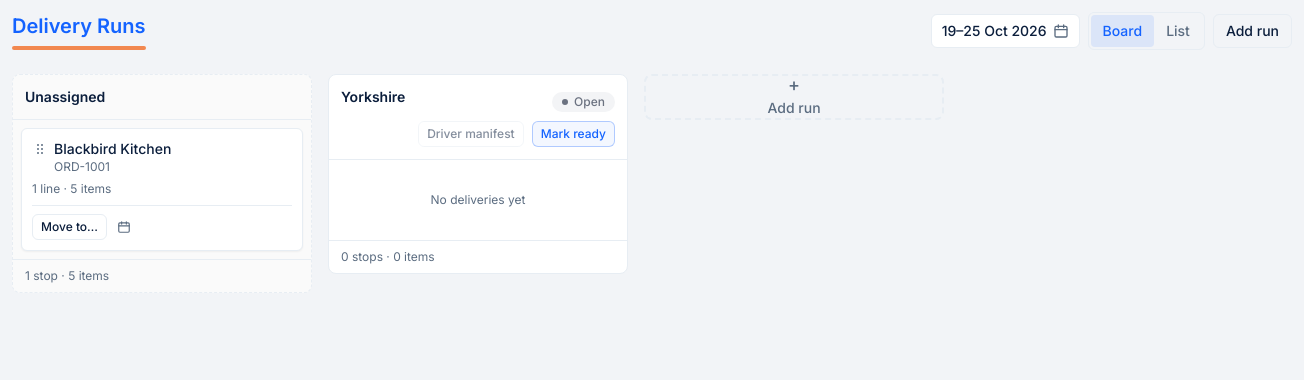
Scenario: DeliveryRunsPage — mutation flow › on 409, shows a banner and refetches — never auto-retries the mutation
The width and height of the screenshot is (1304, 380).
Expected: the element with test id "board-view" is shown, [12,74,944,293]
Click the button "Move to…": [70, 227] box [32,214,107,240]
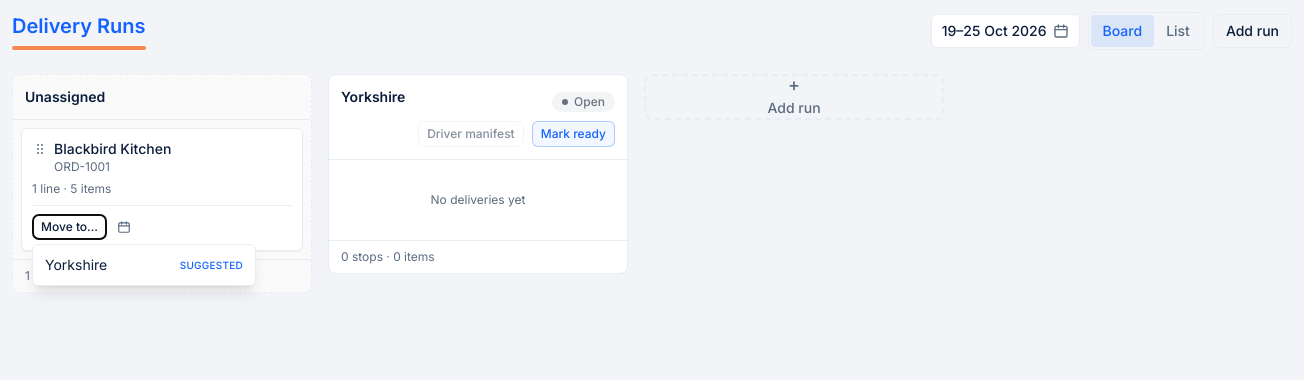
Click the menu item "Yorkshire Suggested": [144, 265] box [33,249,255,281]
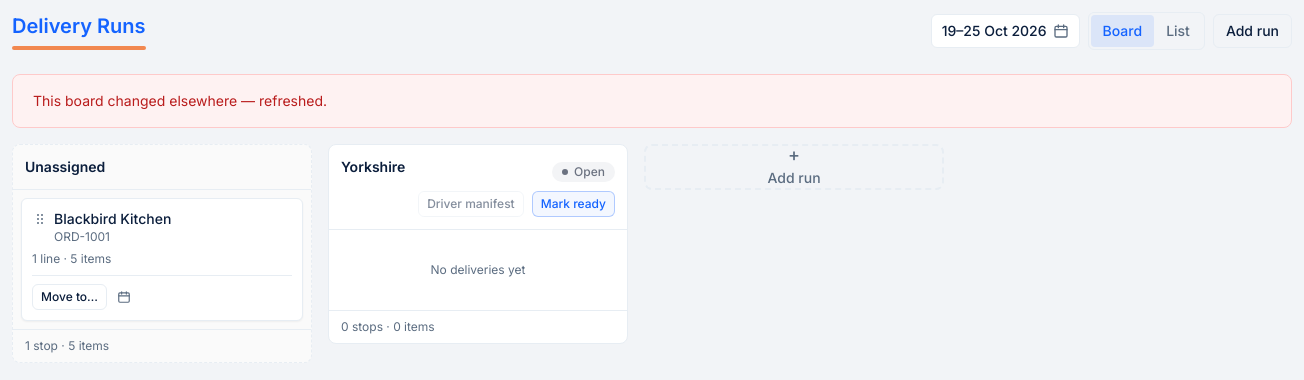
Now the text "This board changed elsewhere — refreshed." is shown, box [12,74,1292,128]
